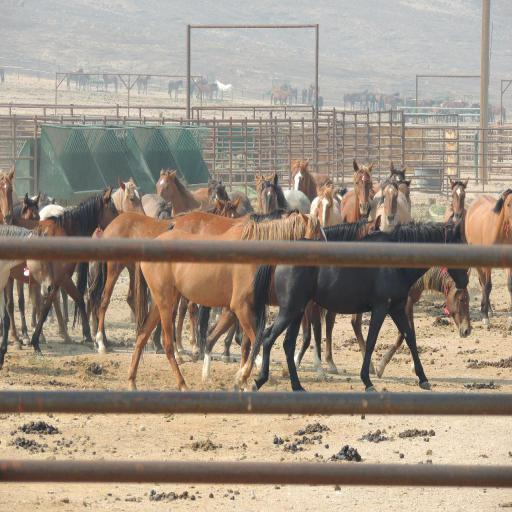horse: (0, 164, 512, 389)
